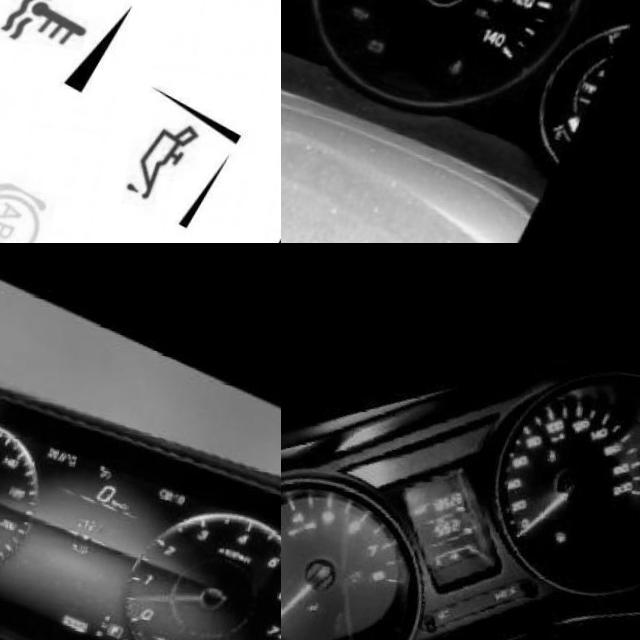Seat Belt: (547, 434, 563, 451)
